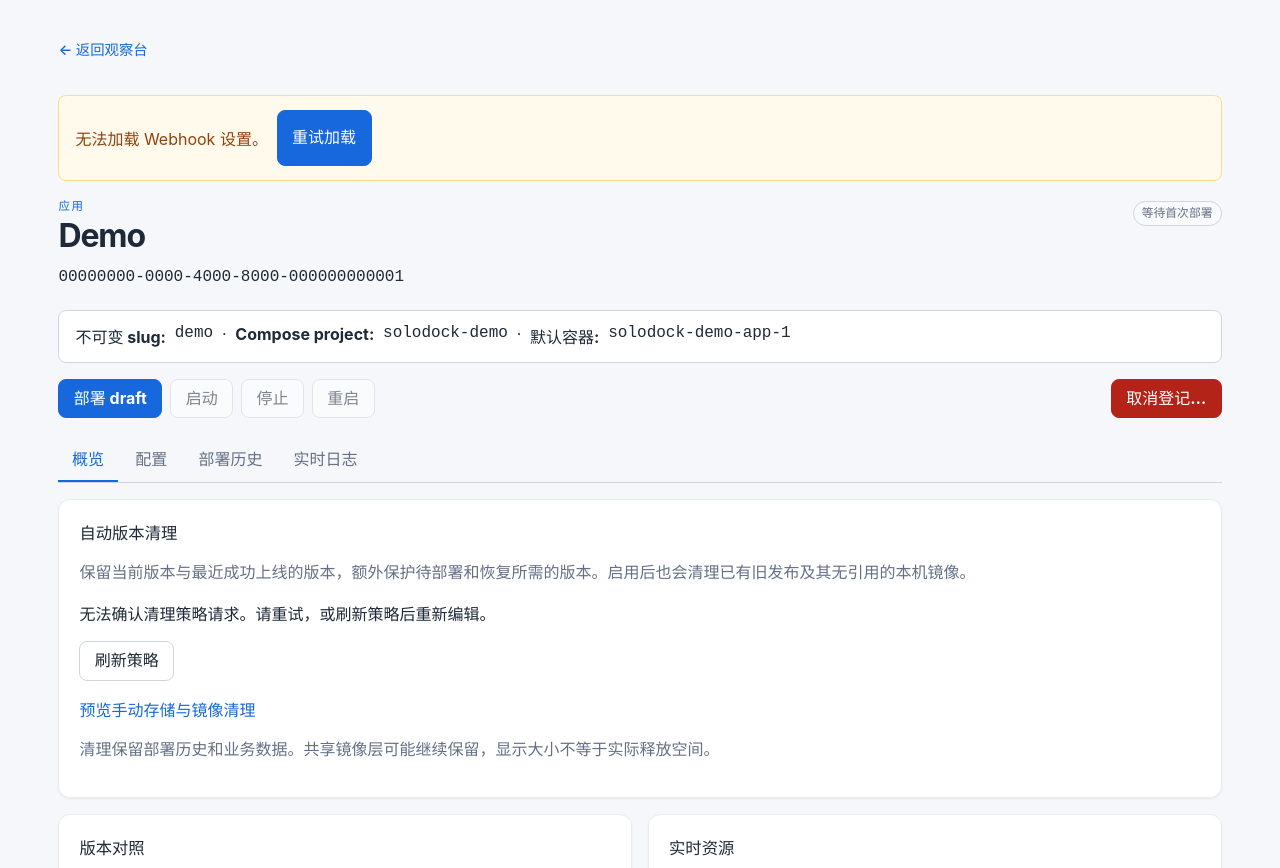
it: app detail resource identity › does not display an owned network or bridge for an external-only app
Expected: the text "solodock-demo-app-1" is shown, [608,324,791,348]
Click the button "配置" at (151, 460), box [122,438,181,482]
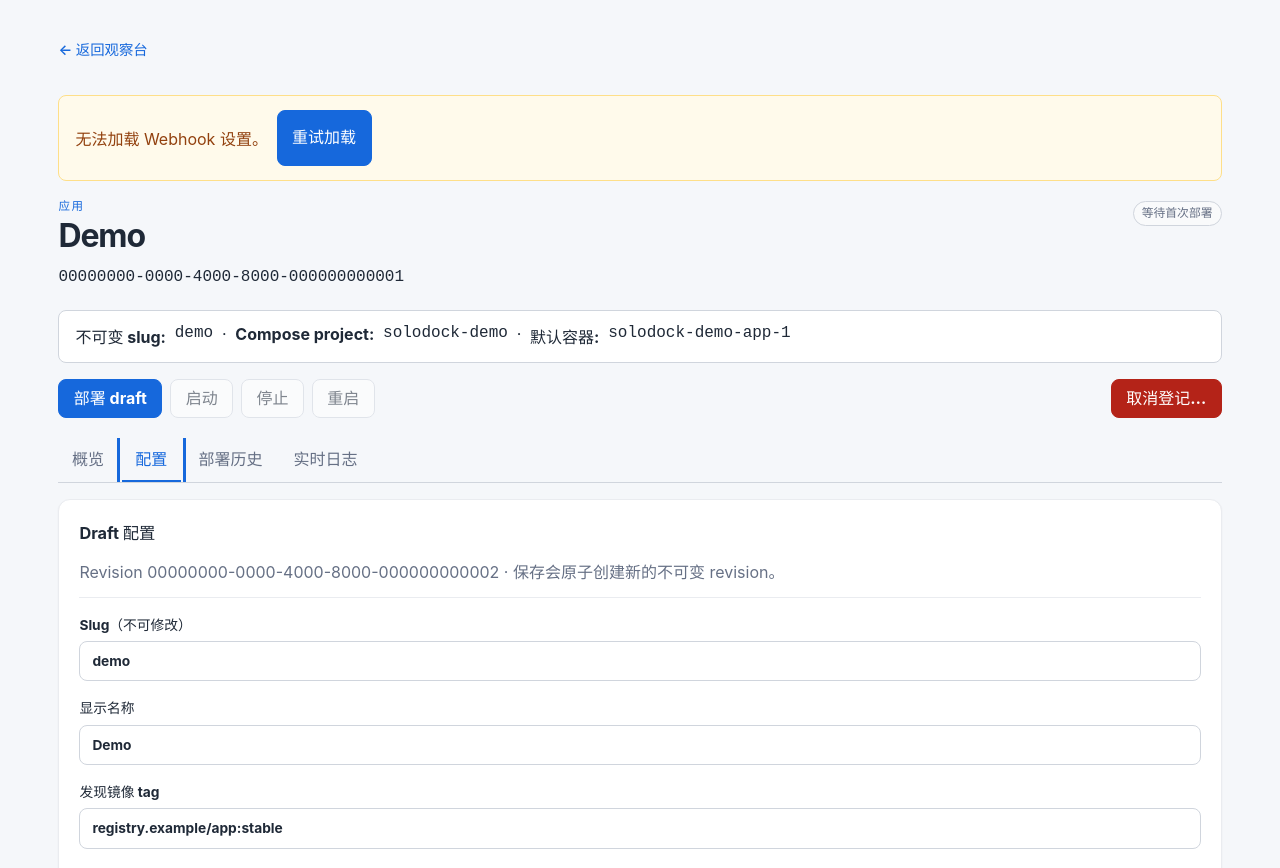
Click the button "部署历史" at (230, 460), box [185,438,276,482]
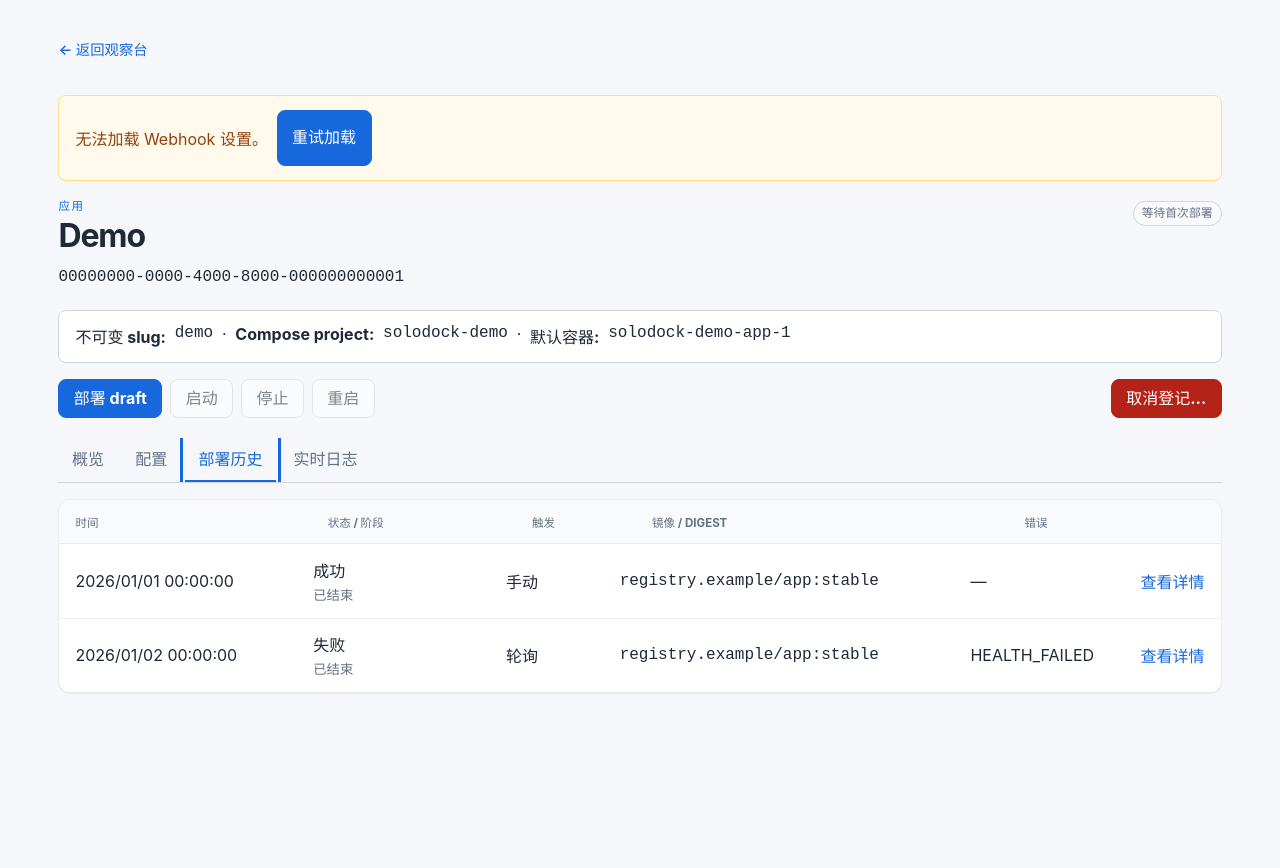
Now the number of links "查看详情" is 2, box [1141,569,1205,593]; [1141,643,1205,667]
